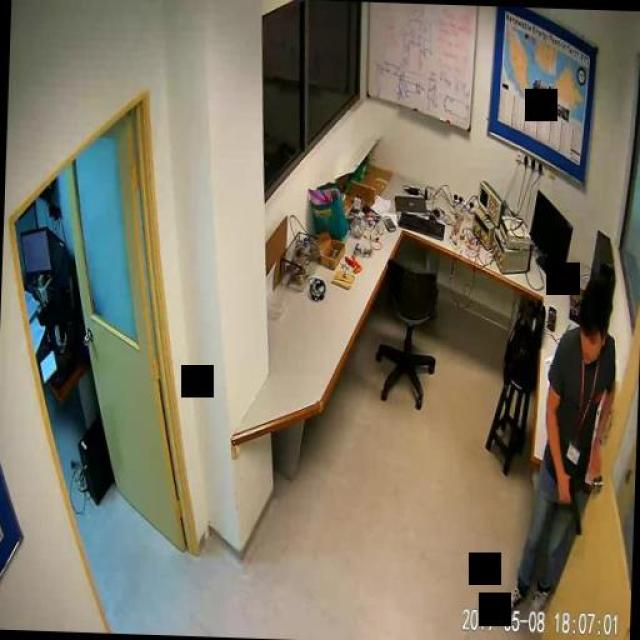gun: (552, 472, 582, 536)
